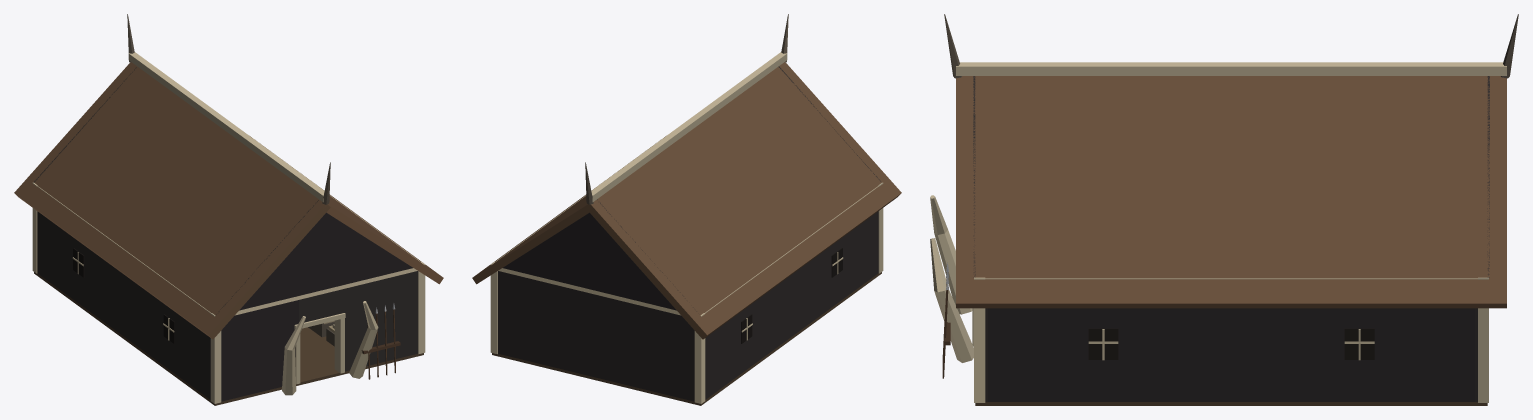
The model's file is walk_ashen_barracks.glb.
3 renders of one model, left to right at view 1: azimuth 30°, elevation 25°; view 2: azimuth 150°, elevation 25°; view 3: azimuth 270°, elevation 25°, orthographic. The views are drawn at different scales.
Visible parts, largest first — view 1: walk_ashen_barracks_roof, walk_ashen_barracks; view 2: walk_ashen_barracks_roof, walk_ashen_barracks; view 3: walk_ashen_barracks_roof, walk_ashen_barracks.
Part boxes in pixels (bbox=[...]): walk_ashen_barracks_roof: bbox=[14, 14, 443, 339]; walk_ashen_barracks: bbox=[32, 182, 425, 405]; walk_ashen_barracks_roof: bbox=[472, 14, 901, 339]; walk_ashen_barracks: bbox=[490, 182, 883, 405]; walk_ashen_barracks_roof: bbox=[944, 14, 1518, 308]; walk_ashen_barracks: bbox=[930, 195, 1488, 405].
Size of what is drawn, in the model's own units: 9 by 8.33 by 13.79.
2 materials, 2 textured.
